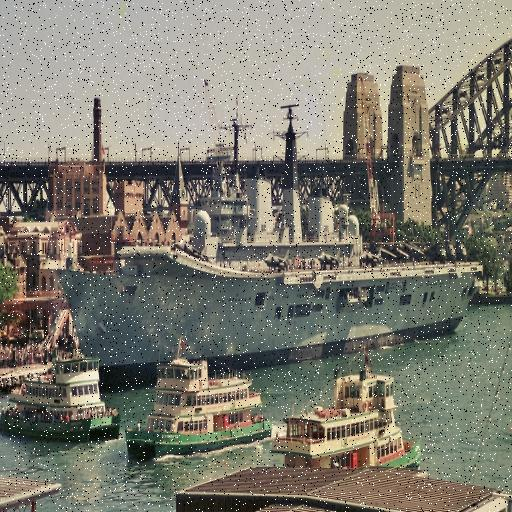Portanaves: (53, 92, 489, 398)
